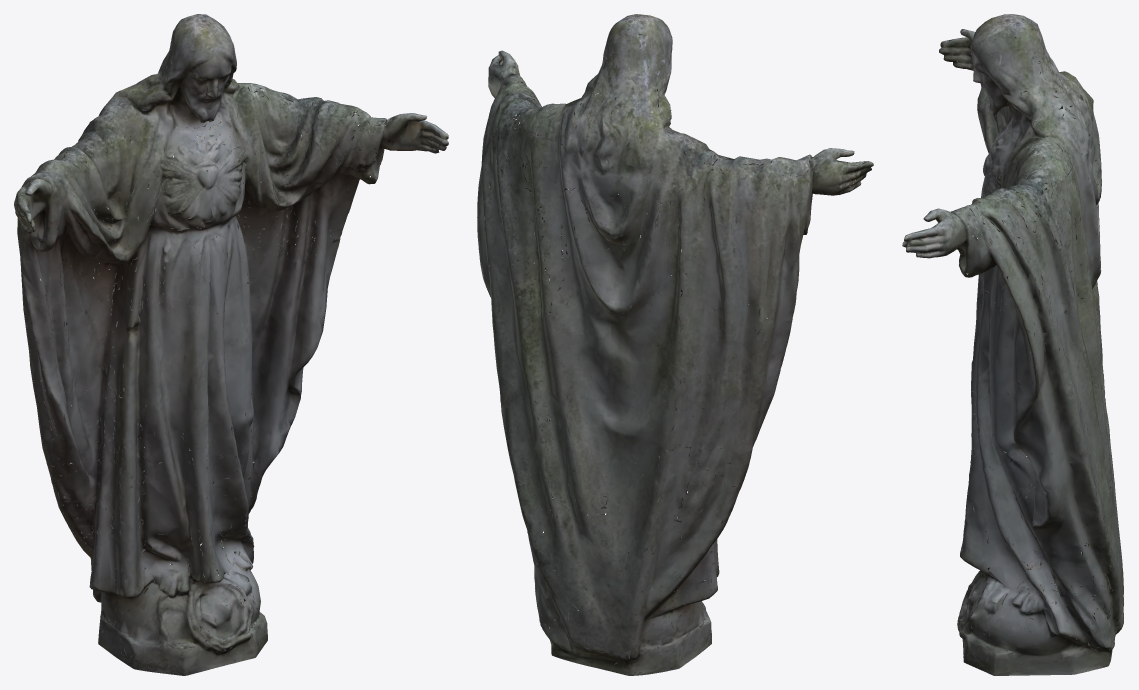
Rendered from christ-DLxeC-vK.glb.
3 renders of one model, left to right at view 1: azimuth 30°, elevation 25°; view 2: azimuth 150°, elevation 25°; view 3: azimuth 270°, elevation 25°, orthographic. The views are drawn at different scales.
Parts seen in each view (by area): view 1: Object_2, Object_4, Object_6, Object_3, Object_7, Object_5; view 2: Object_3, Object_2, Object_4, Object_5, Object_6, Object_7; view 3: Object_3, Object_2, Object_4, Object_5, Object_6, Object_7, Object_8.
Boxes of the visible parts, x1,y1,x2,y2 form: Object_2: (20,155,358,675); Object_4: (14,42,301,581); Object_6: (75,14,382,672); Object_3: (28,24,385,650); Object_7: (29,83,448,660); Object_5: (14,98,386,343); Object_3: (496,25,810,669); Object_2: (477,161,796,675); Object_4: (496,43,873,525); Object_5: (477,74,873,401); Object_6: (477,14,719,671); Object_7: (487,50,791,640); Object_3: (950,20,1123,671); Object_2: (959,193,1123,675); Object_4: (944,43,1110,543); Object_5: (939,29,1093,354); Object_6: (957,14,1123,673); Object_7: (902,145,1077,667); Object_8: (962,613,1112,675).
Size of the model in its own units: 1.28 by 1.91 by 0.6108.
Materials: 2 (1 with a texture image).
